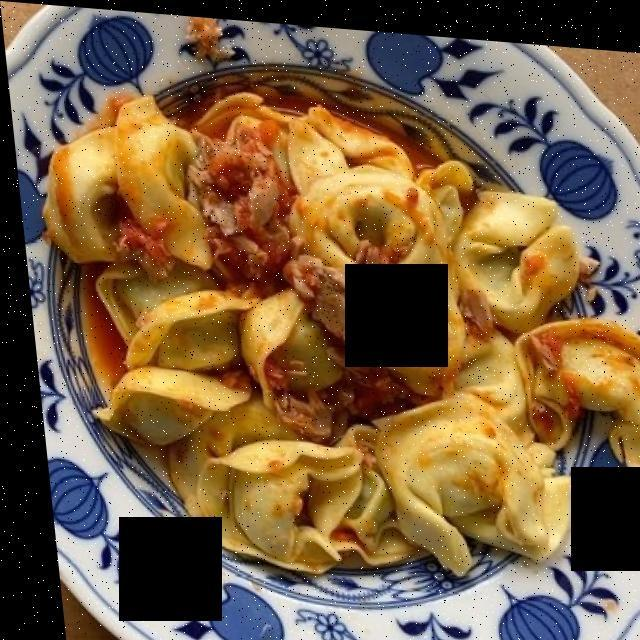pasta: (55, 95, 640, 560)
tomato-sauce: (62, 85, 640, 386)
tuna: (176, 128, 364, 452)
